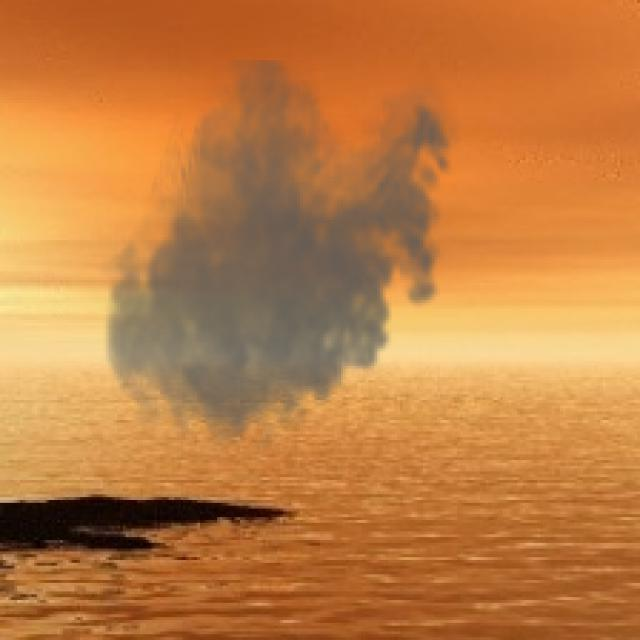Smoke: (97, 60, 463, 463)
